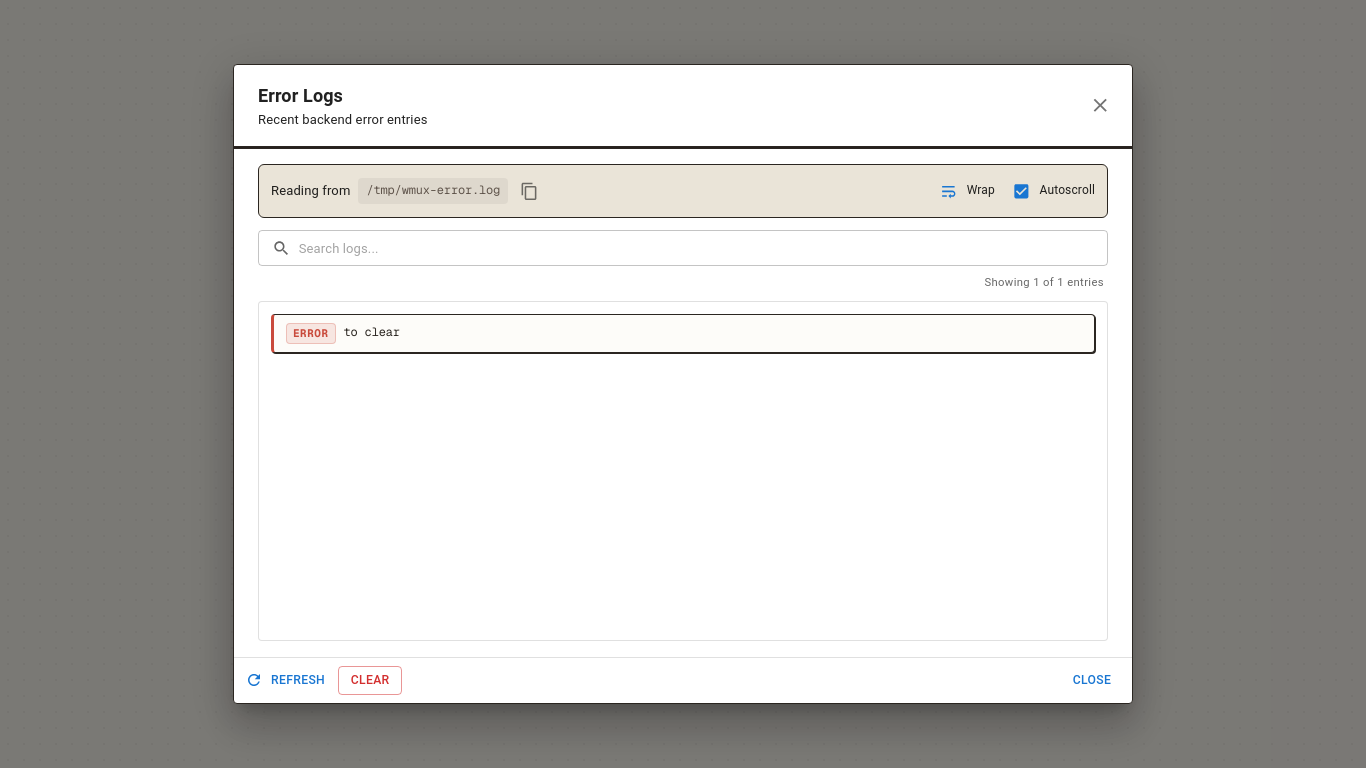
Test: ErrorLogsPanel › clear button opens confirm dialog and clears logs
The image size is (1366, 768).
Click the button with test id "error-logs-clear": (370, 680) [338,666,402,695]
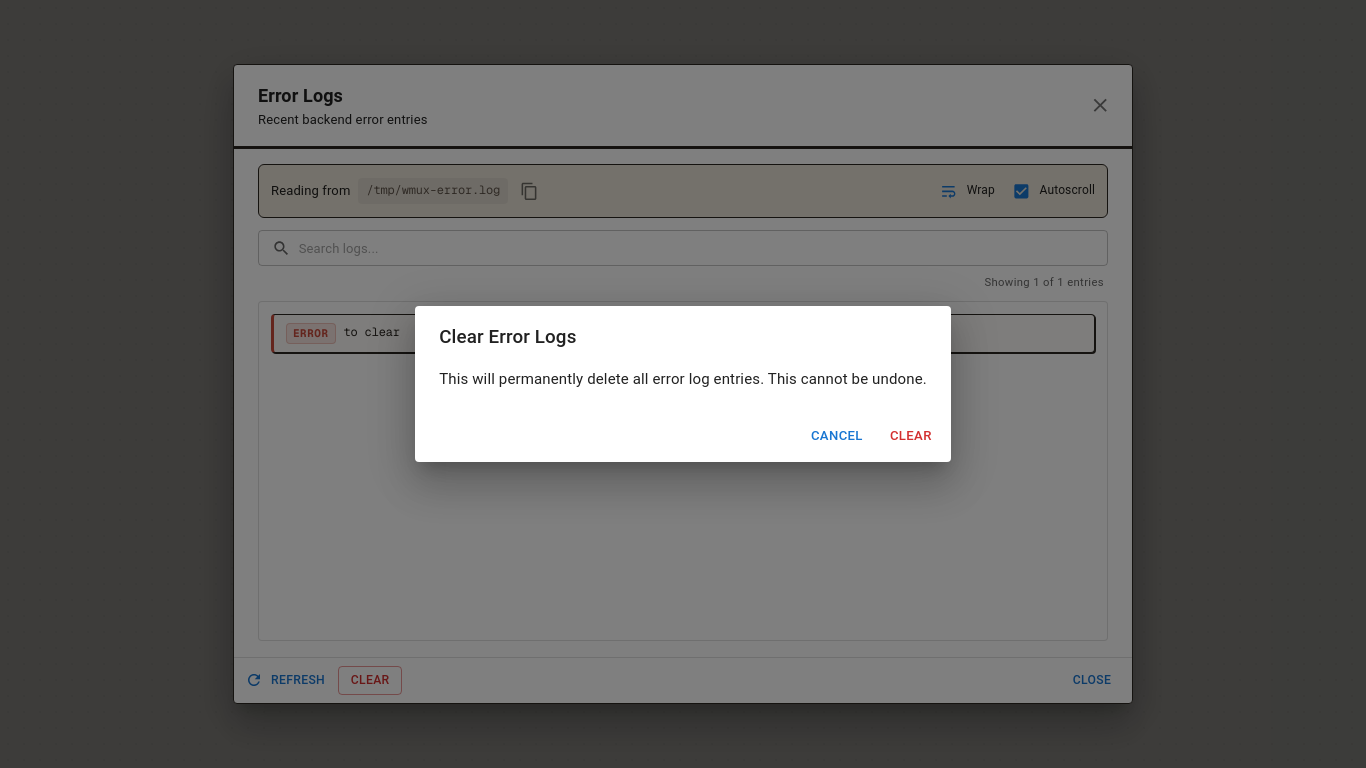
Expected: the element with test id "confirm-dialog" is shown
Click the button with test id "confirm-dialog-confirm": (911, 436) [879,419,943,454]
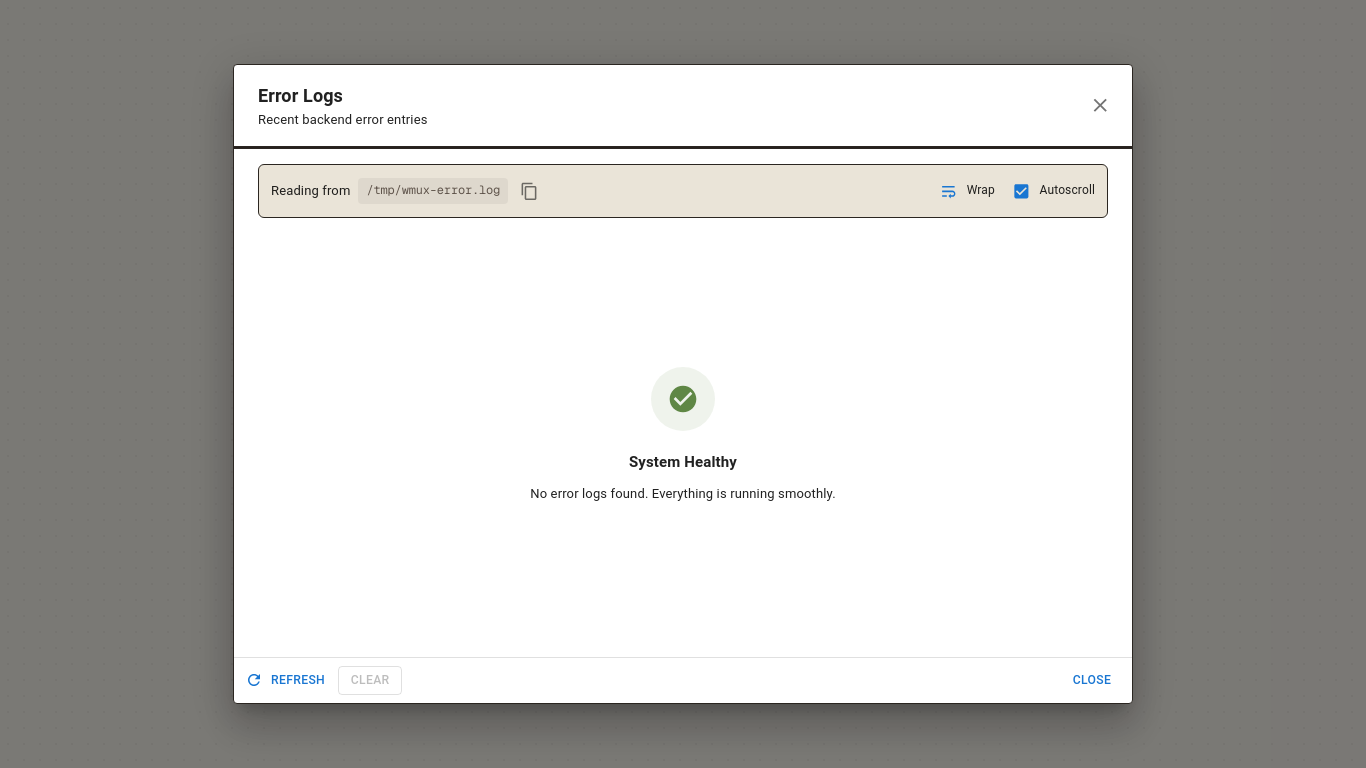
Expected: the element with test id "error-logs-empty" is shown, [530,367,836,502]
